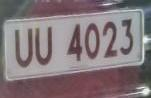0: (83, 18, 102, 65)
2: (101, 16, 120, 64)
3: (118, 14, 137, 61)
4: (64, 17, 85, 69)
U: (33, 23, 56, 71), (11, 25, 34, 72)
